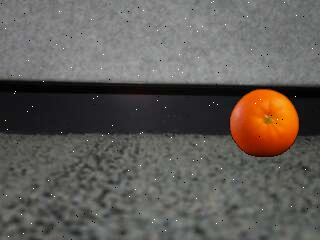Orange: (228, 88, 302, 159)
